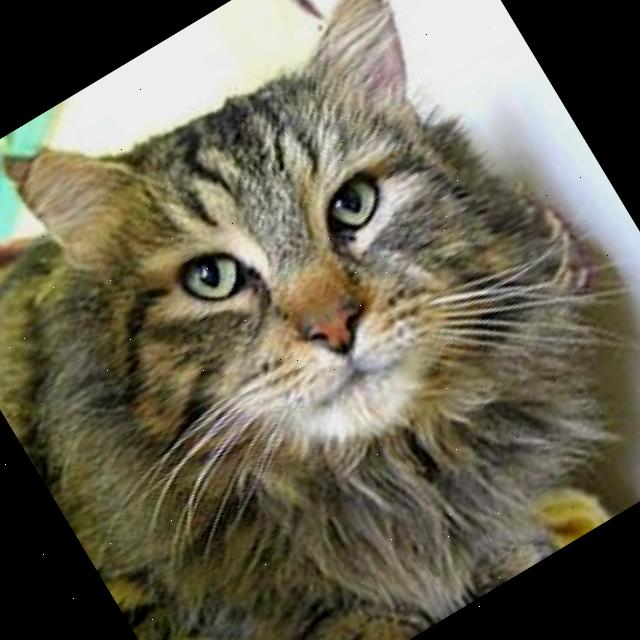cat-eye-normal: (156, 224, 272, 333), (297, 153, 406, 259)
